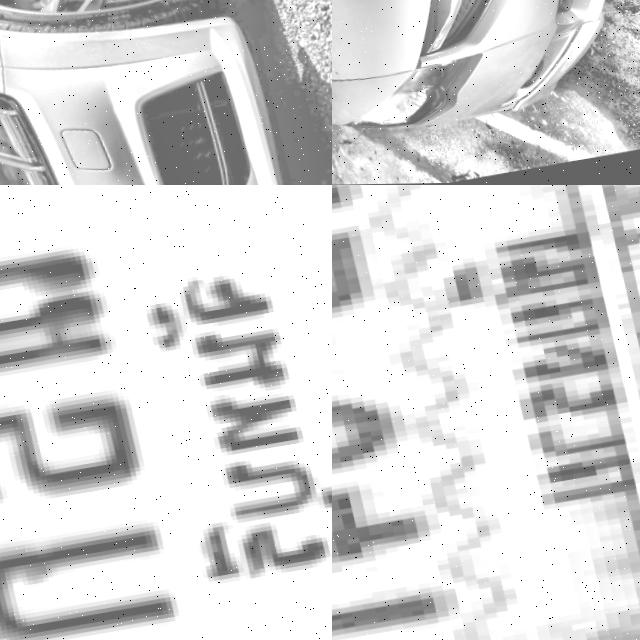license-plate: (0, 185, 332, 640), (332, 185, 640, 640)
